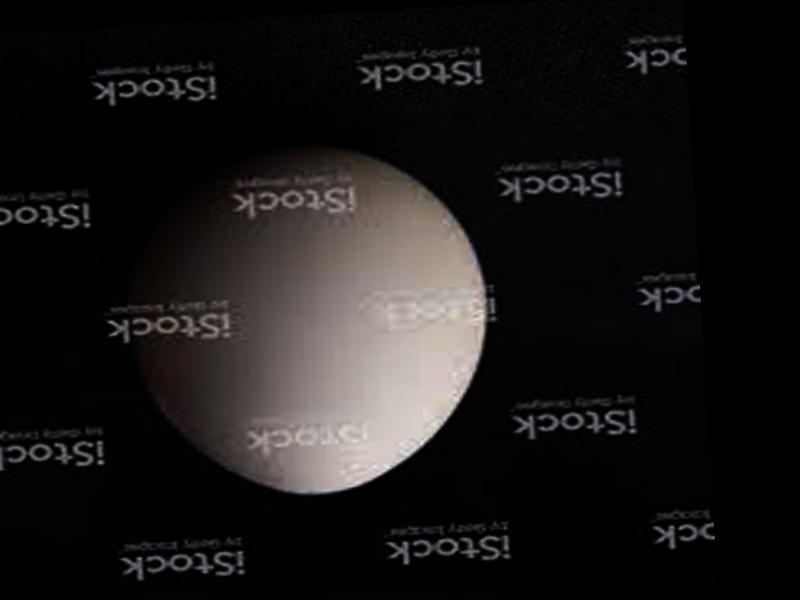Eggs: (118, 132, 497, 505)
